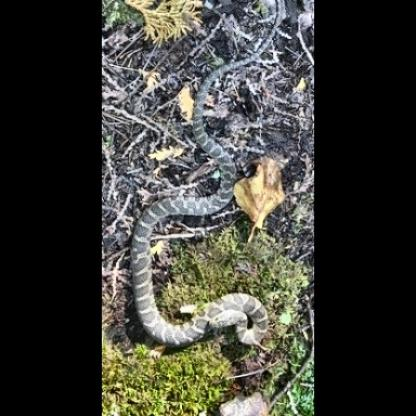Snake: (129, 15, 275, 355)
